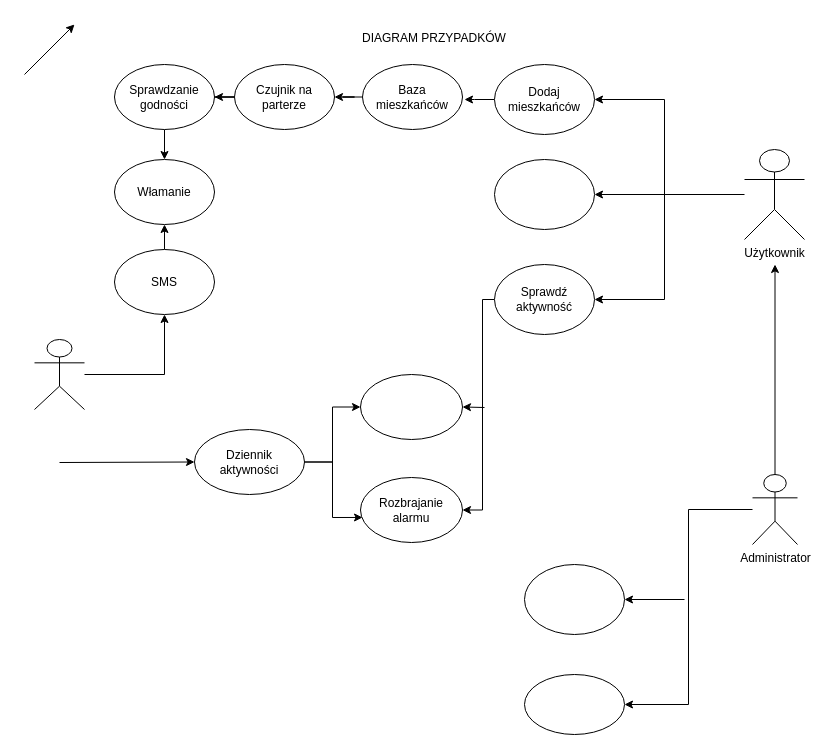
This 828x752 diagram has some shape labels left out. The box of each missing label's shape, as (x1, y1, x2, y2) in pixels:
Dodaj czujnik: (524, 674, 624, 734)
Dodaj gości: (494, 158, 594, 230)
Dodaj użytkownika: (524, 564, 624, 634)
Otwarcie okien: (360, 374, 462, 440)
Serwer: (34, 338, 84, 410)
